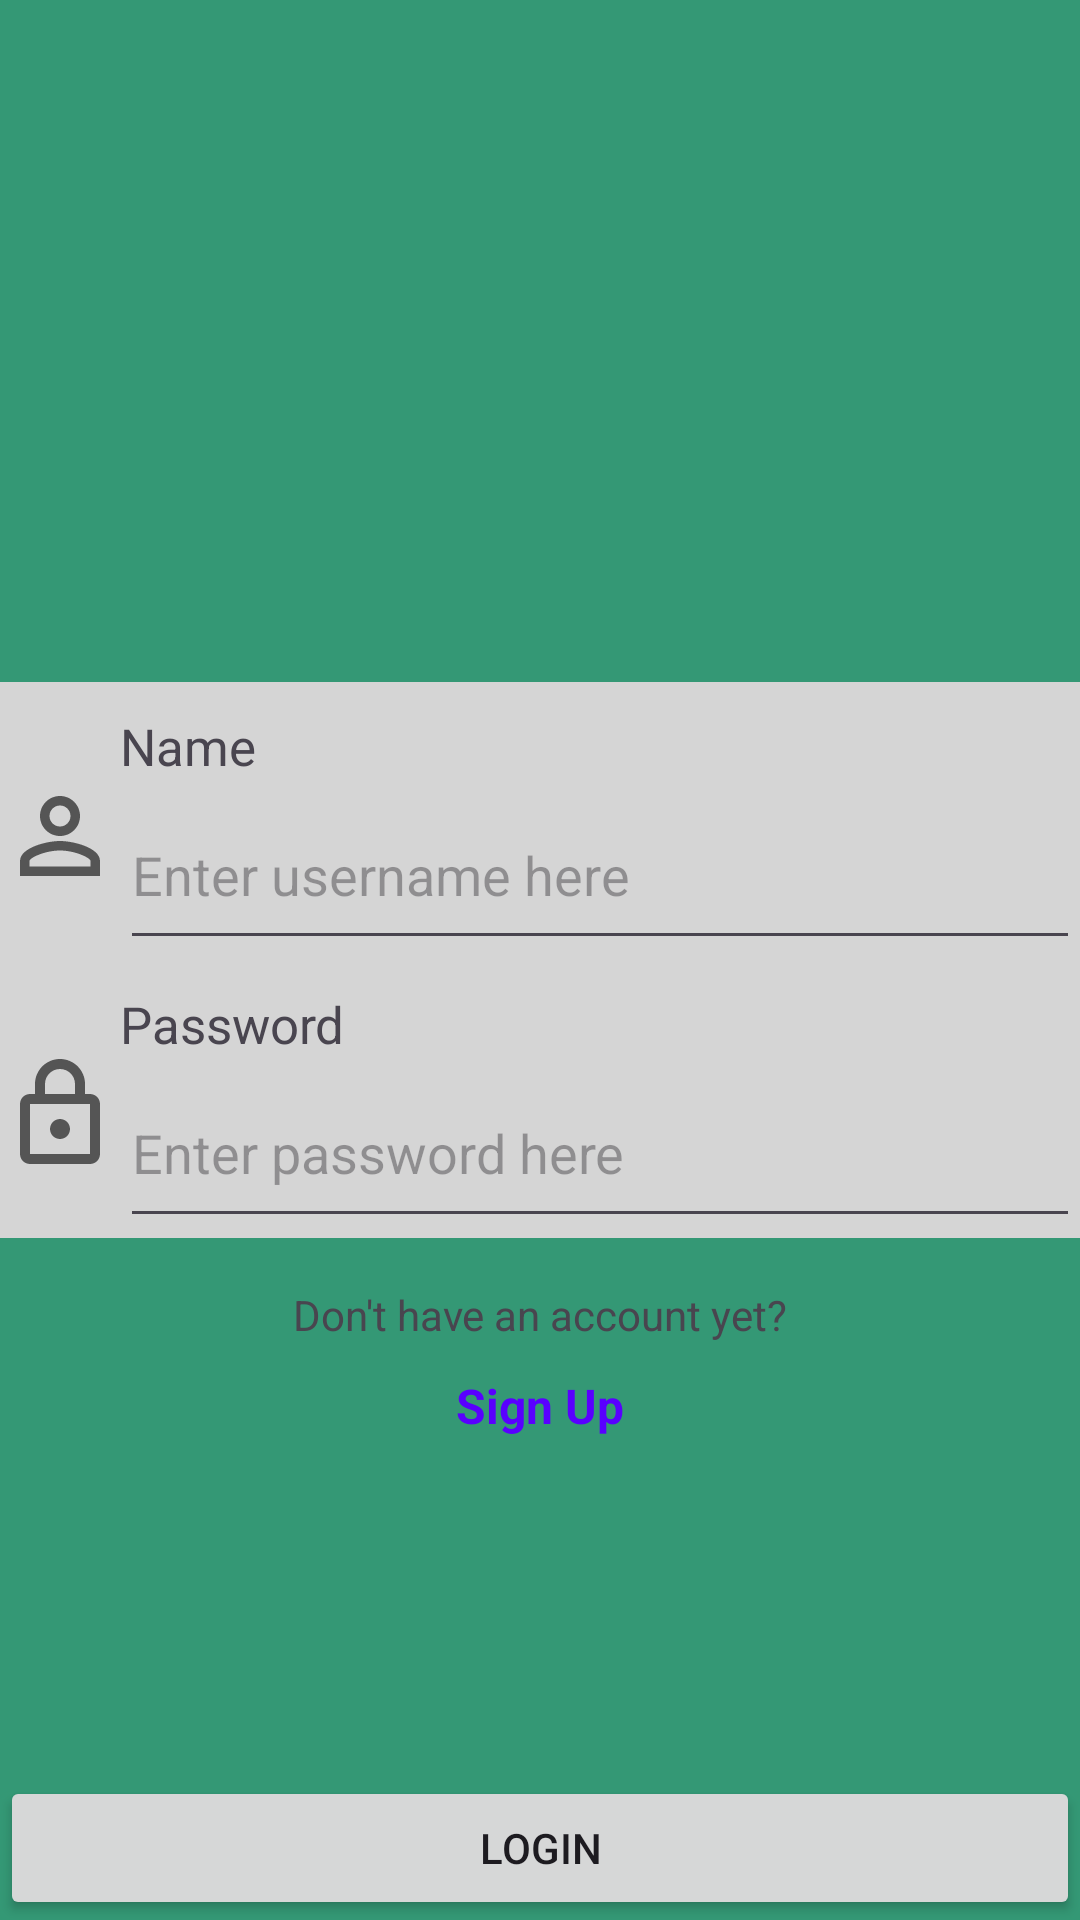

Point at icon controls on the screen. Image size 1080px x 1920px, points as [x,y].
lock: [60,1111]
